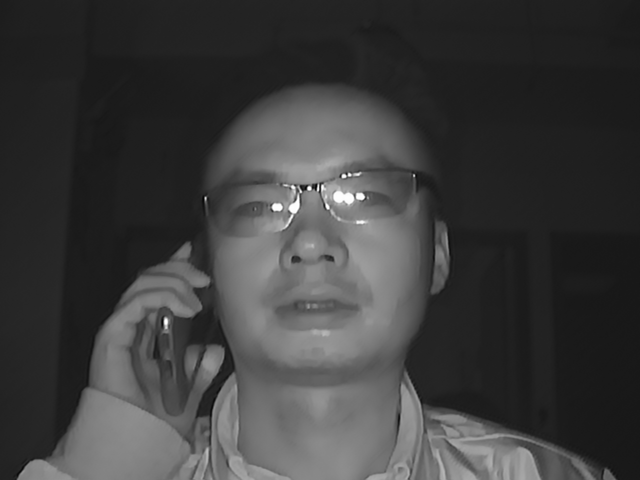hand: (88, 245, 212, 422)
